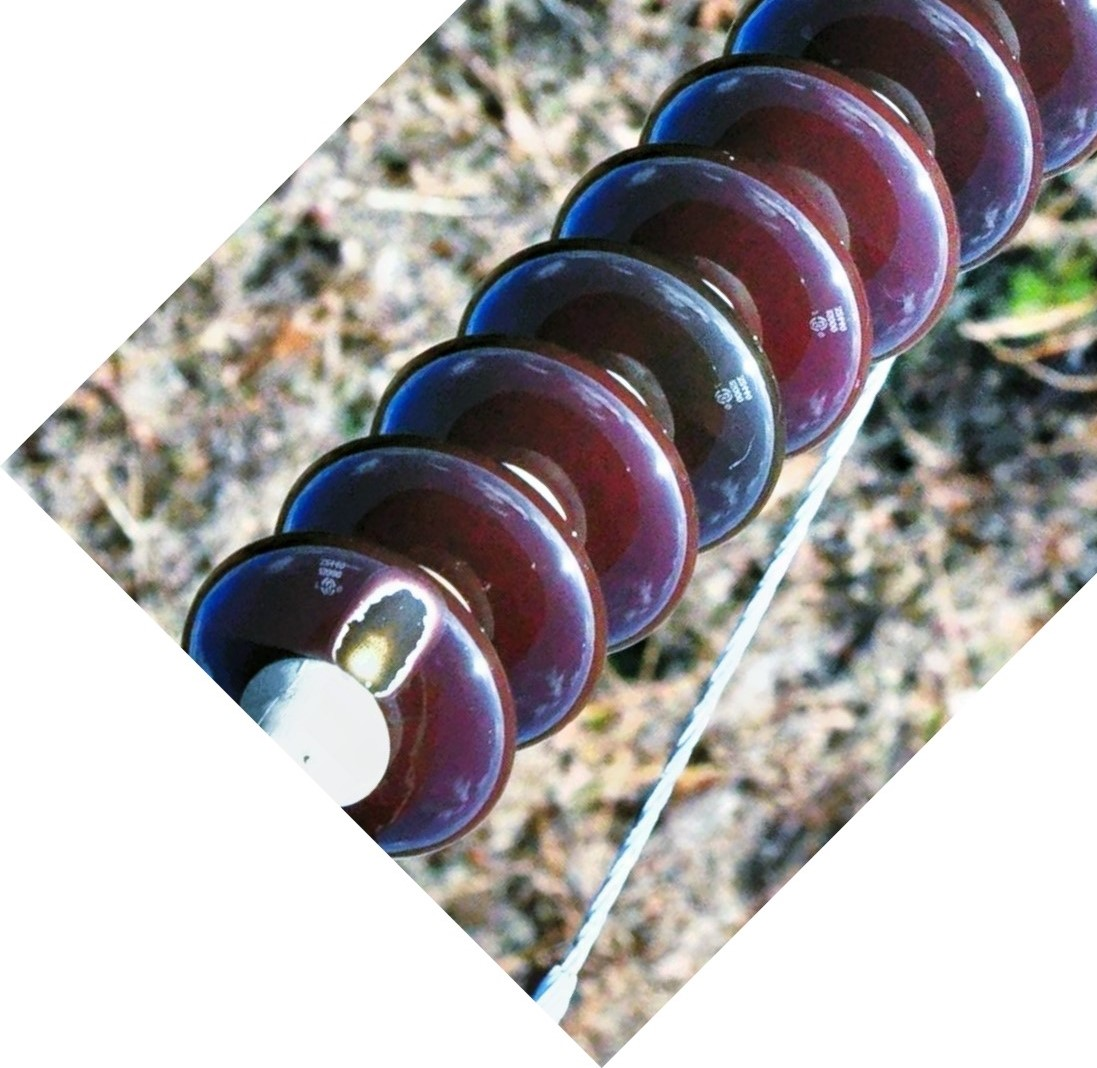Insulator flashover: (173, 530, 531, 878)
